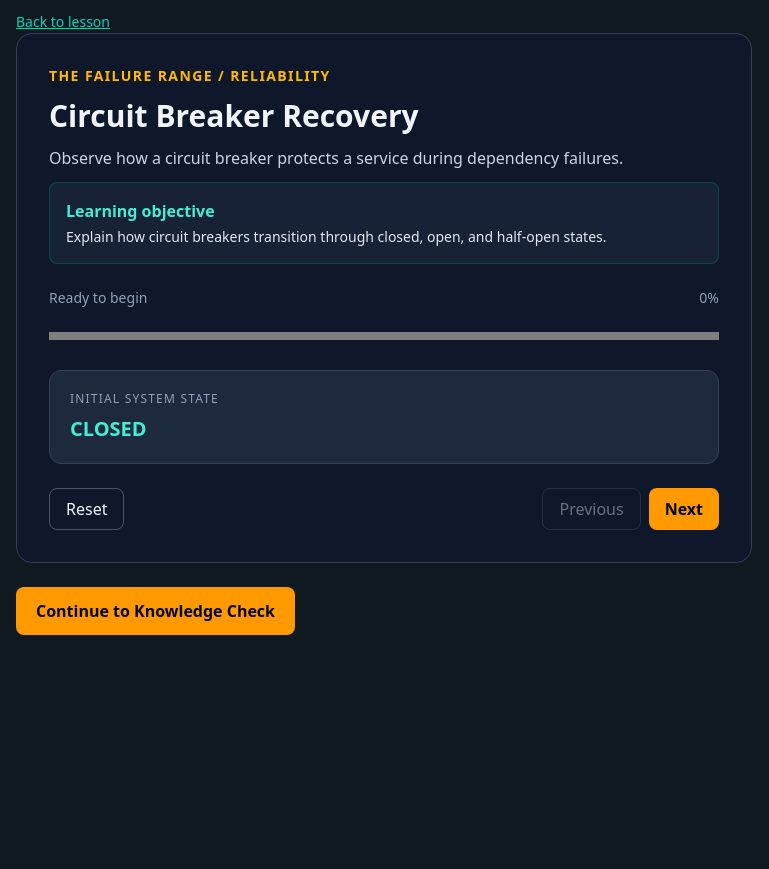
LearningRoutes › navigates from simulation to quiz
The width and height of the screenshot is (769, 869).
Click the link "Continue to Knowledge Check".
click(156, 611)  # box [16, 587, 295, 635]
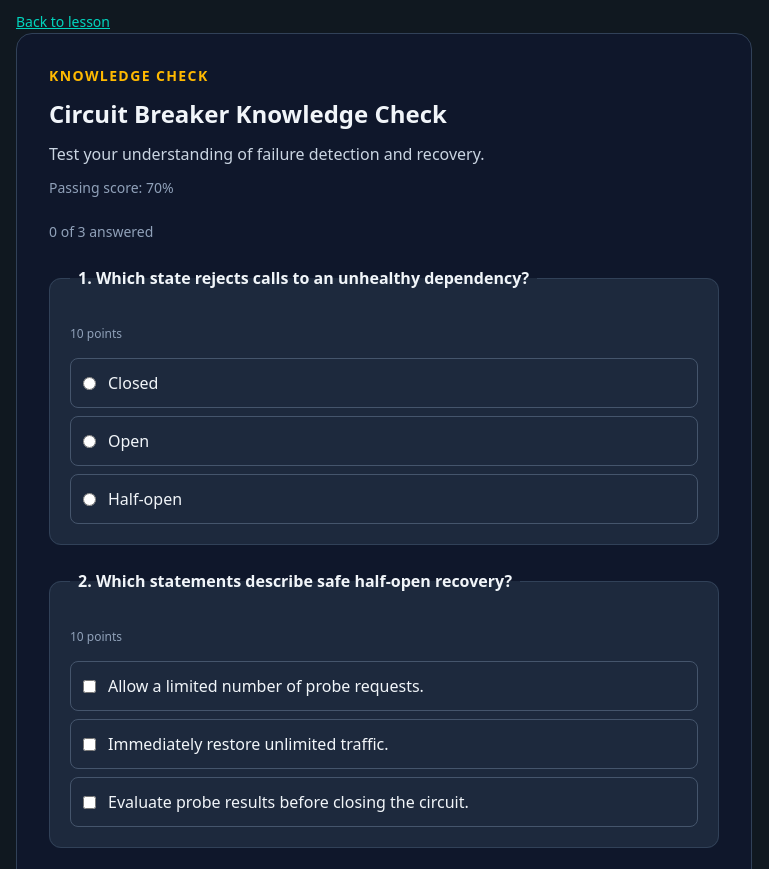
Now the heading "Circuit Breaker Knowledge Check" is shown, box [49, 97, 447, 130]
